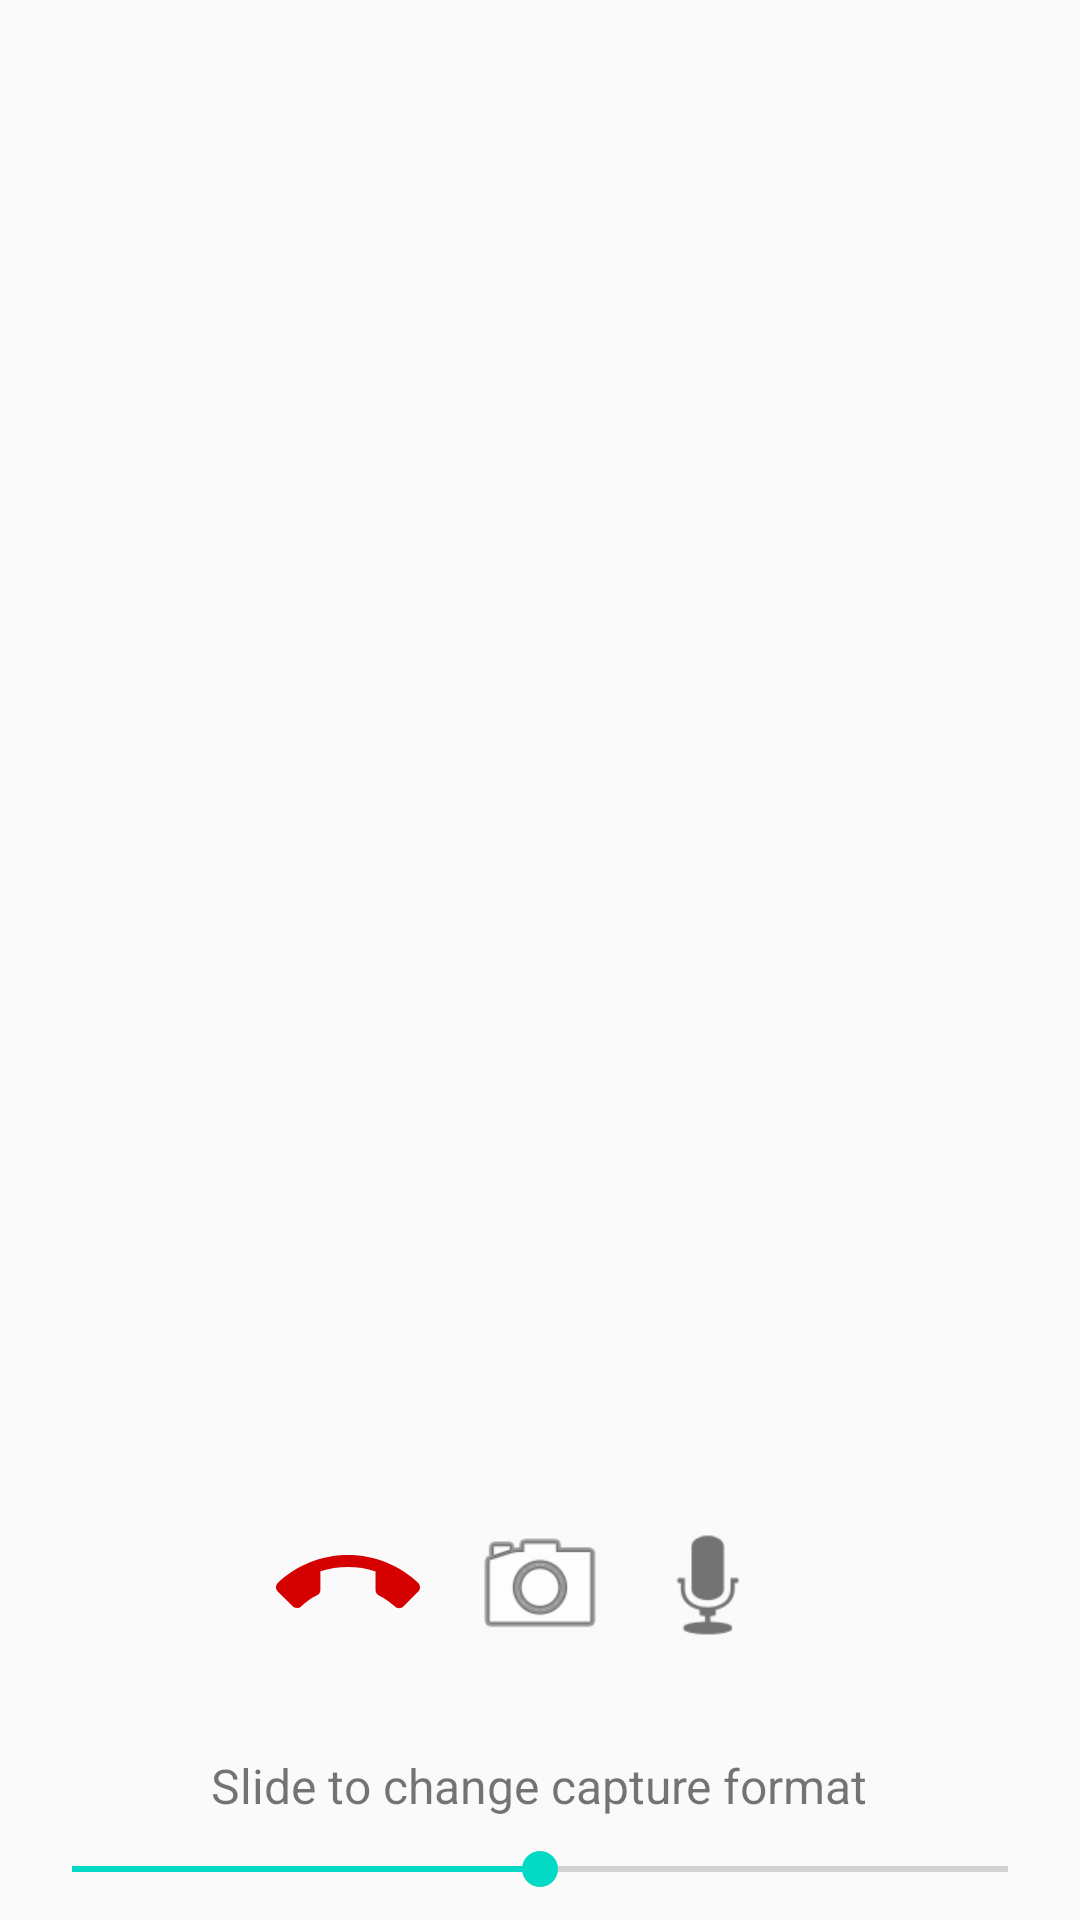

Where to tap for icons on this 1080w x 1920h app screen, as [x,y]:
Disconnect Call: [348,1582]
Switch front/back camera: [540,1582]
Toggle microphone on/off: [707,1585]
